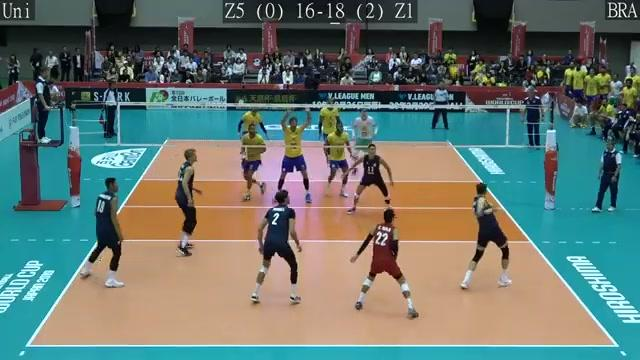ball: (445, 62, 461, 79)
